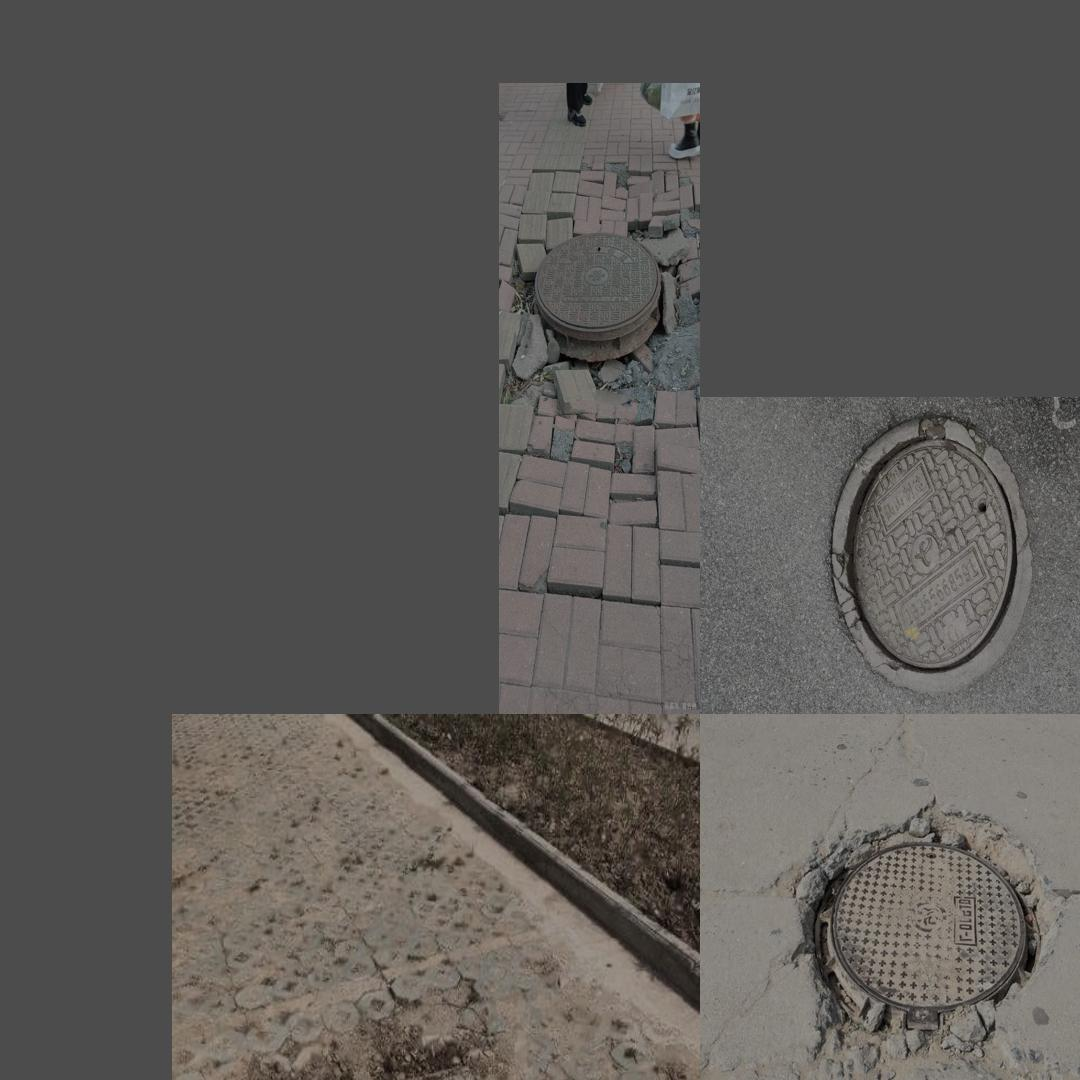circle: (775, 799, 1074, 1067), (803, 413, 1045, 691), (503, 177, 697, 481), (280, 1057, 603, 1080)
